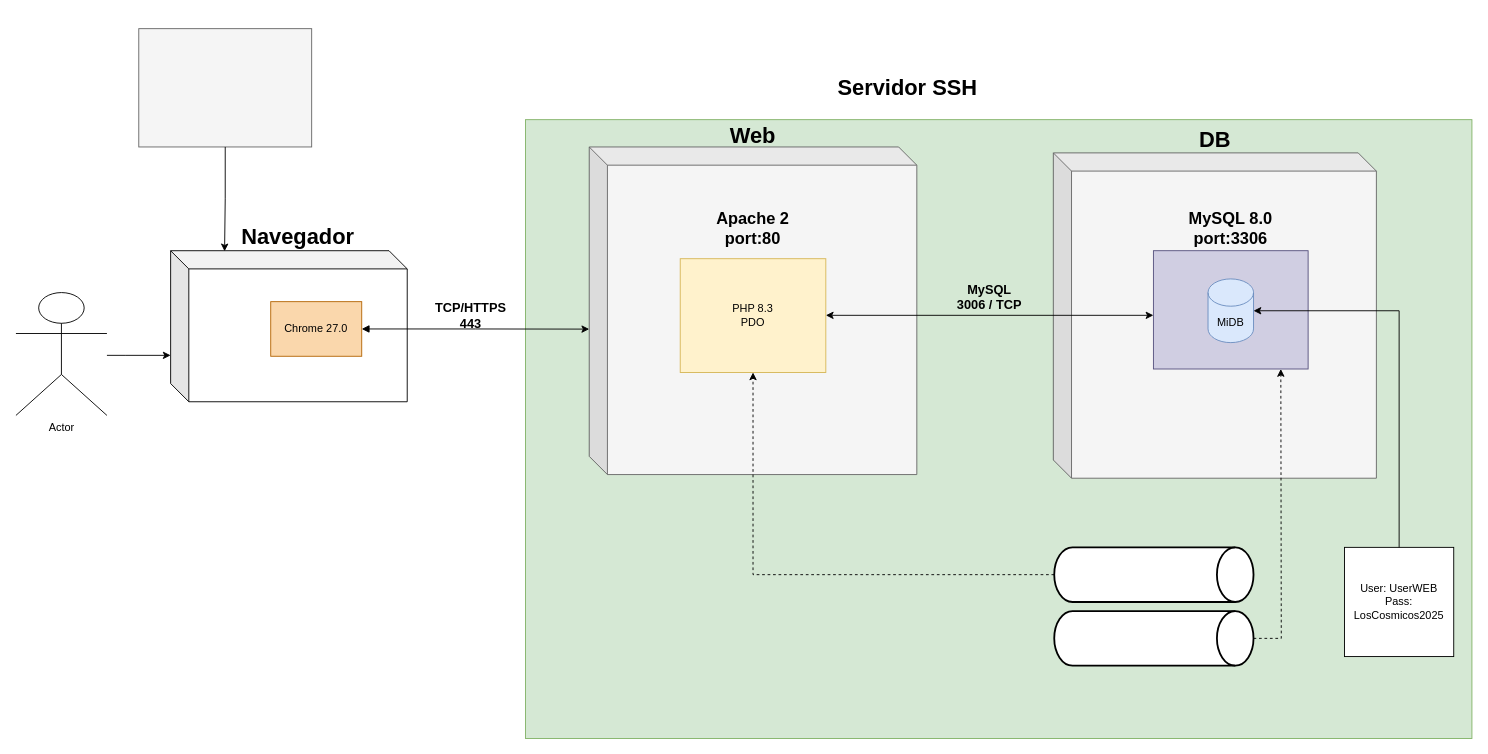
Some shapes in this 1488 by 754 pixel diagram are drawn without their labels. The shapes that lost their labels are listed below. From the top down, each one's centre as x and y in pixels, then its label:
At [225,87]: "Windows 11 pro x64 CPU:intel celeron N450 ram:8GB Disk:116GB".
At [1153,574]: "C:/proyecto/index.php".
At [1153,638]: "C:/xampp/mysql/data/".
